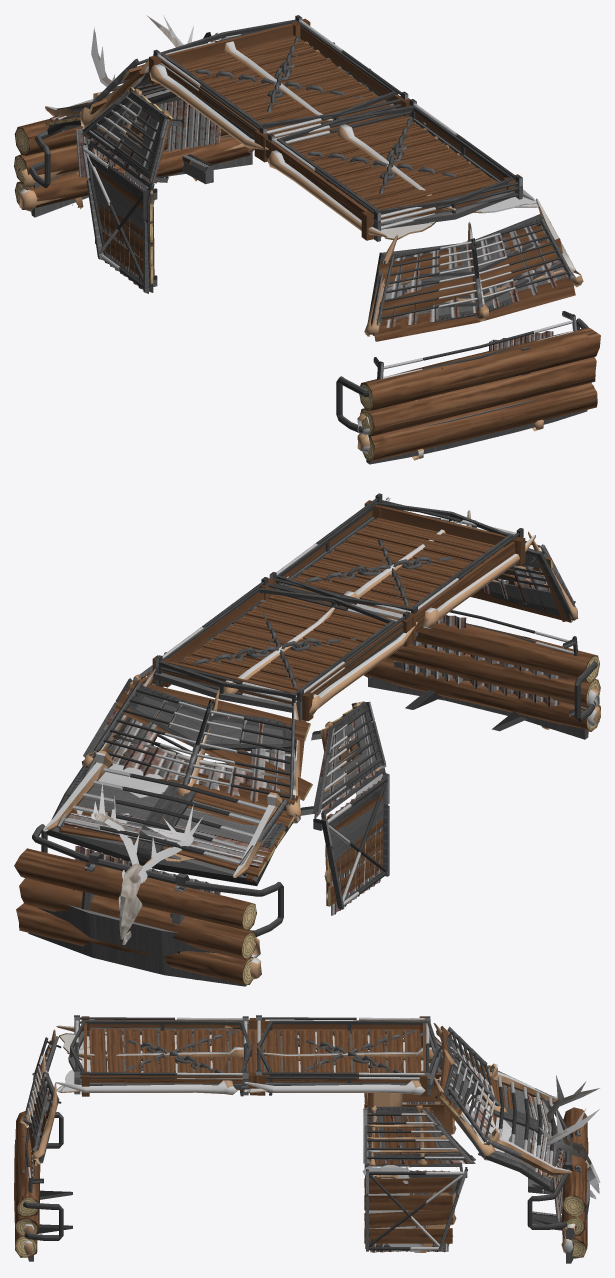
File: Van_Armour.fbx
3 renders of one model, top to bottom at view 1: azimuth 30°, elevation 25°; view 2: azimuth 150°, elevation 25°; view 3: azimuth 270°, elevation 25°, orthographic. The views are drawn at different scales.
Parts seen in each view (by area): view 1: van_wood_roofrack, van_wood_trunk_armor, van_wood_rear_windshield_armor, van_heavy_roofrack, van_light_roofrack, van_bone_roofrack, van_wood_bullbar_armor, van_light_rear_windshield_armor, van_heavy_rear_windshield_armor, van_scrap_rear_windshield_armor, van_heavy_front_left_door_armor, van_scrap_chain_roof_rack (+15 smaller); view 2: van_wood_roofrack, van_wood_bullbar_armor, van_wood_trunk_armor, van_heavy_bullbar_armor, van_heavy_hood_armor, van_heavy_roofrack, van_light_windshield_armor, van_light_roofrack, van_heavy_windshield_armor, van_light_hood_armor, van_bone_roofrack, van_scrap_windshield_armor (+20 smaller); view 3: van_wood_roofrack, van_bone_roofrack, van_light_roofrack, van_wood_front_right_door_armor, van_heavy_roofrack, van_wood_bullbar_armor, van_wood_trunk_armor, van_heavy_hood_armor, van_light_windshield_armor, van_scrap_chain_roof_rack, van_bone_bullbar_armor, van_light_front_right_door_armor (+27 smaller).
Part boxes in pixels (<box>): van_wood_roofrack: <box>149,18,522,240</box>; van_wood_trunk_armor: <box>359,327,600,461</box>; van_wood_rear_windshield_armor: <box>372,221,575,341</box>; van_heavy_roofrack: <box>160,19,514,229</box>; van_light_roofrack: <box>153,15,522,241</box>; van_bone_roofrack: <box>149,37,539,239</box>; van_wood_bullbar_armor: <box>14,119,250,209</box>; van_light_rear_windshield_armor: <box>376,219,574,325</box>; van_heavy_rear_windshield_armor: <box>365,214,572,334</box>; van_scrap_rear_windshield_armor: <box>371,223,567,327</box>; van_heavy_front_left_door_armor: <box>87,140,154,292</box>; van_scrap_chain_roof_rack: <box>185,35,472,200</box>; van_wood_roofrack: <box>152,500,525,721</box>; van_wood_bullbar_armor: <box>14,848,256,984</box>; van_wood_trunk_armor: <box>363,623,600,731</box>; van_heavy_bullbar_armor: <box>28,824,283,986</box>; van_heavy_hood_armor: <box>46,765,297,885</box>; van_heavy_roofrack: <box>154,502,512,718</box>; van_light_windshield_armor: <box>86,681,295,822</box>; van_light_roofrack: <box>155,493,523,720</box>; van_heavy_windshield_armor: <box>93,685,295,793</box>; van_light_hood_armor: <box>57,755,289,876</box>; van_bone_roofrack: <box>150,498,535,715</box>; van_scrap_windshield_armor: <box>94,699,296,802</box>; van_wood_roofrack: <box>81,1016,427,1096</box>; van_bone_roofrack: <box>56,1025,433,1095</box>; van_light_roofrack: <box>74,1015,430,1095</box>; van_wood_front_right_door_armor: <box>364,1177,452,1244</box>; van_heavy_roofrack: <box>68,1020,440,1096</box>; van_wood_bullbar_armor: <box>562,1107,588,1258</box>; van_wood_trunk_armor: <box>14,1111,40,1257</box>; van_heavy_hood_armor: <box>484,1084,560,1190</box>; van_light_windshield_armor: <box>435,1026,500,1153</box>; van_scrap_chain_roof_rack: <box>89,1030,422,1092</box>; van_bone_bullbar_armor: <box>538,1075,600,1252</box>; van_light_front_right_door_armor: <box>366,1167,467,1251</box>.
Bounding box in the file's own units: 0.971 × 0.8636 × 2.53.
